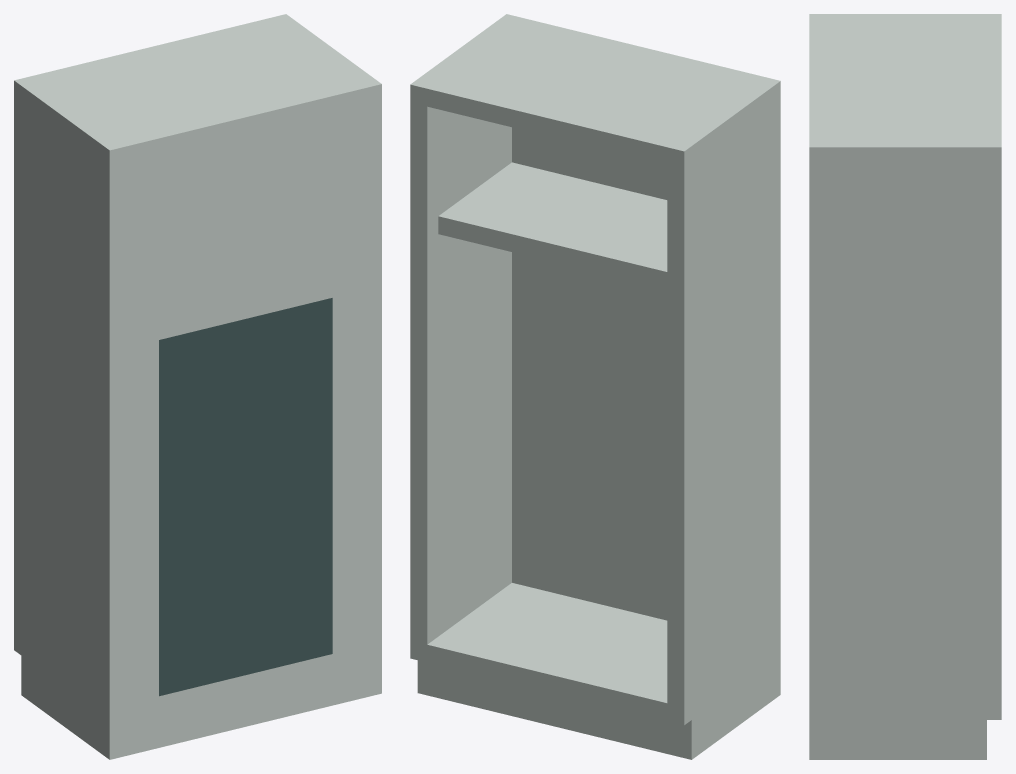
File: KitchenFridge.glb
3 views of the same model, side by side, from view 1: azimuth 30°, elevation 25°; view 2: azimuth 150°, elevation 25°; view 3: azimuth 270°, elevation 25° (orthographic).
Parts seen in each view (by area): view 1: KitchenFridge; view 2: KitchenFridge; view 3: KitchenFridge.
Part boxes in pixels (x1,y1,x2,y2): KitchenFridge: (14,14,381,759); KitchenFridge: (410,14,780,759); KitchenFridge: (809,14,1001,759).
Bounding box in the file's own units: 0.9689 × 2.07 × 0.5902.
